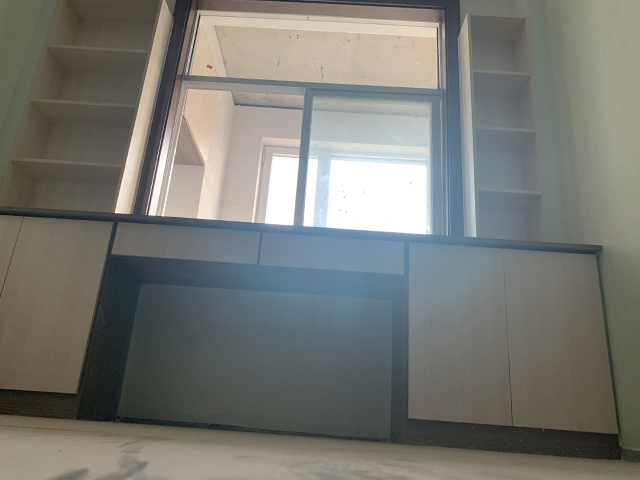table: (1, 203, 612, 462)
